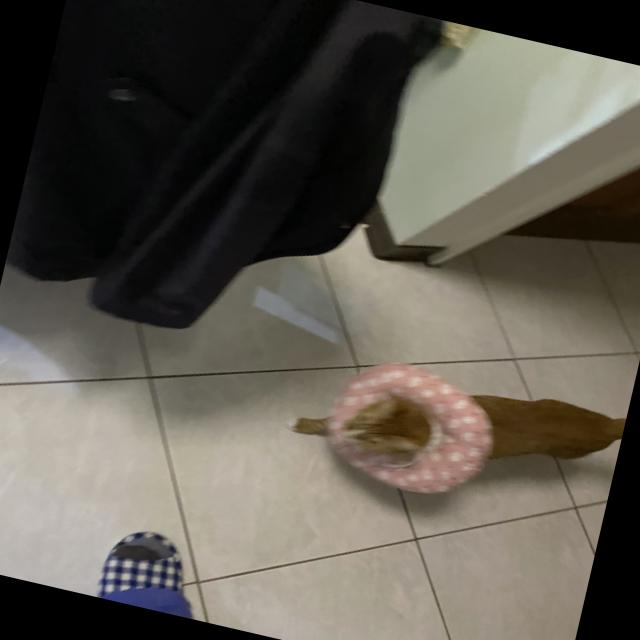cat3: (286, 337, 628, 538)
